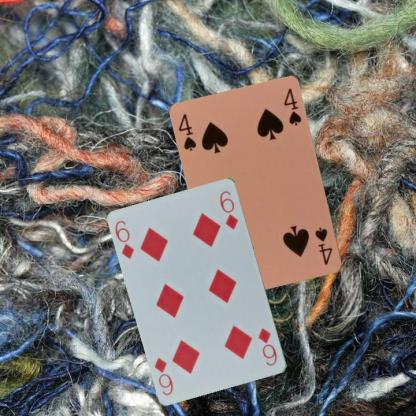4s: (176, 111, 198, 152), (313, 225, 334, 266)
6d: (112, 218, 136, 260), (256, 326, 278, 368)
